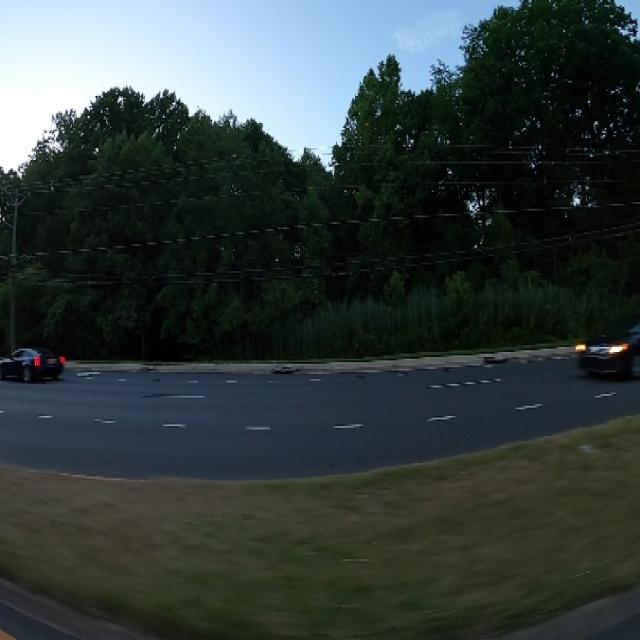Cars: (1, 339, 75, 391), (579, 325, 640, 378)
